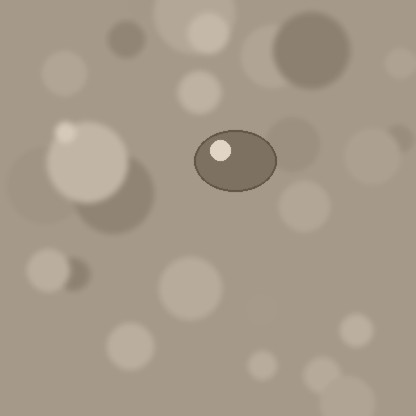gota: (194, 132, 276, 196)
